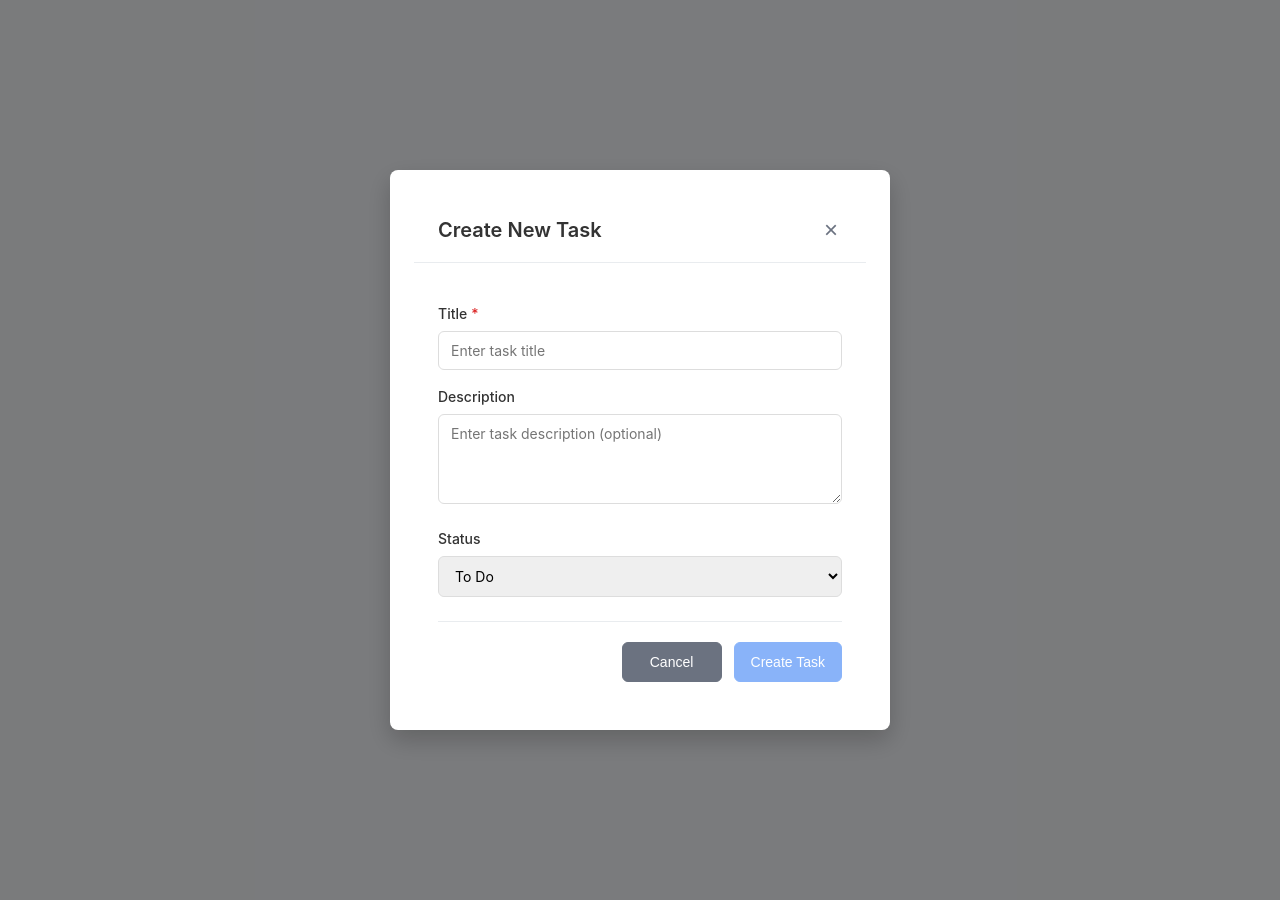
Test case: TaskModal Component › Create Mode › validates required title field
Check: the button "Create Task" is disabled, box x1=734 y1=642 x2=842 y2=682
In the field with placeholder "Enter task title": (640, 350) x1=438 y1=331 x2=842 y2=370, type "Test Title"
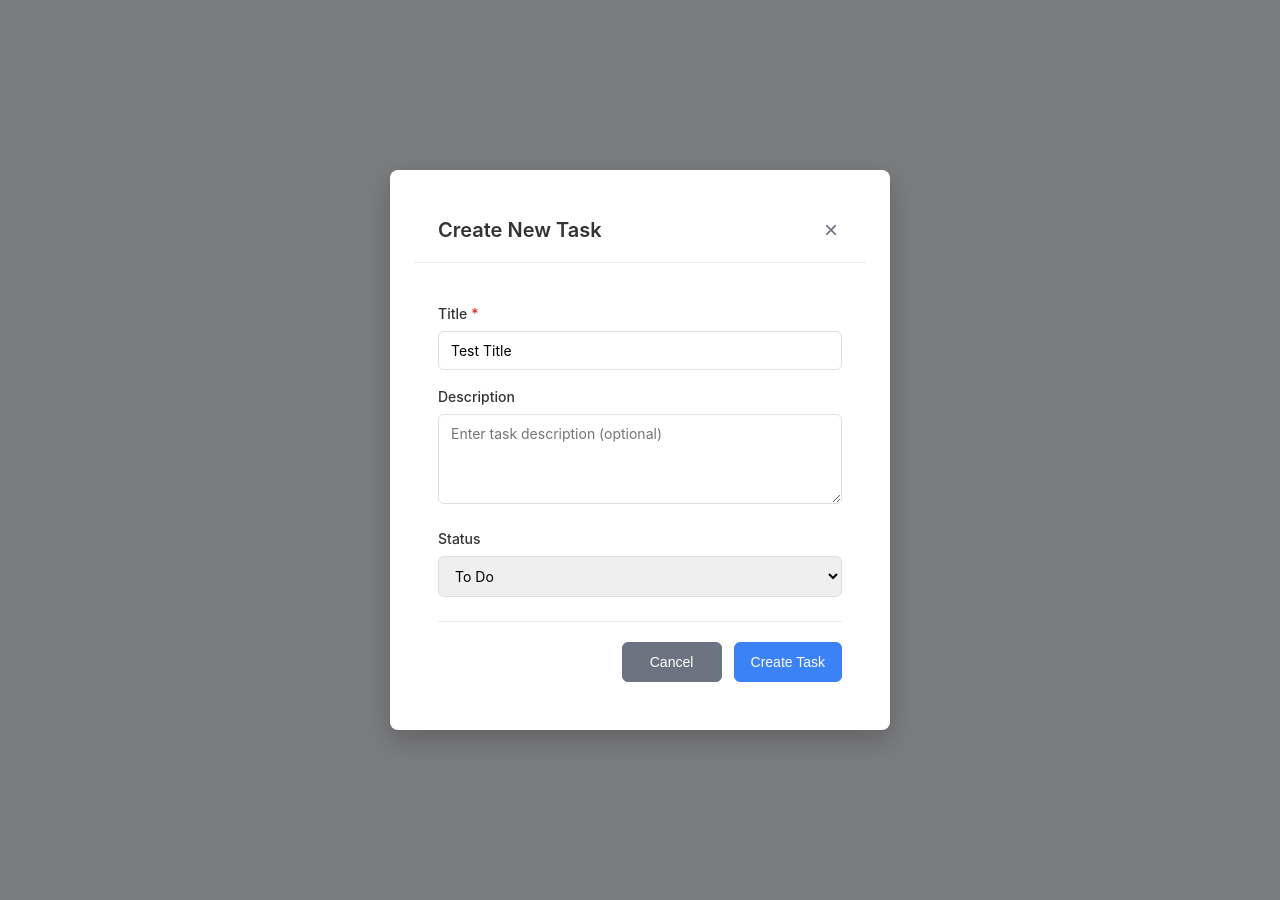
Check: the button "Create Task" is enabled, box x1=734 y1=642 x2=842 y2=682
